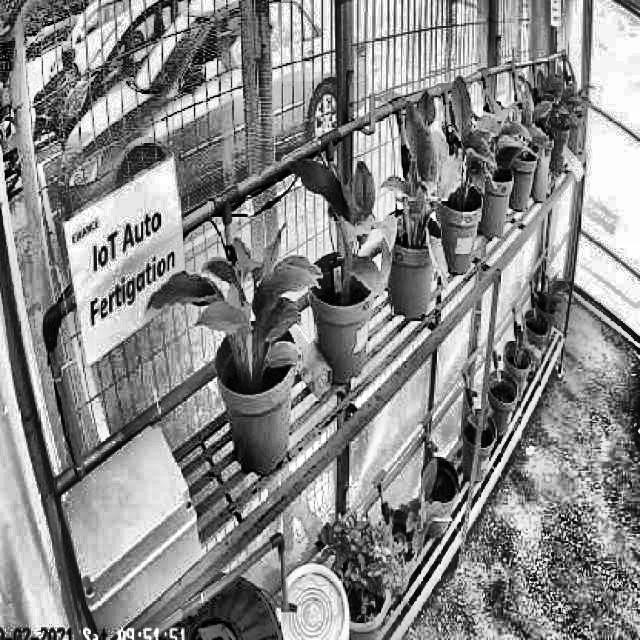plants: (144, 215, 324, 398), (294, 154, 400, 316), (386, 89, 463, 288), (419, 75, 492, 212)
